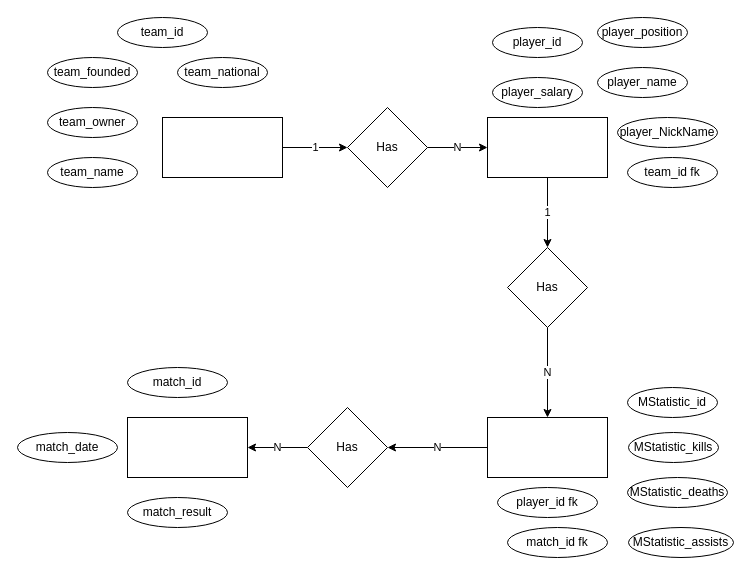
This 751x575 diagram has some shape labels left out. Here are the shapes that lost their labels. From the top down, the centre of each, then its label:
the point at 222,147: Teams
the point at 547,147: Players
the point at 187,447: Matchs
the point at 547,447: Match_Statistic
